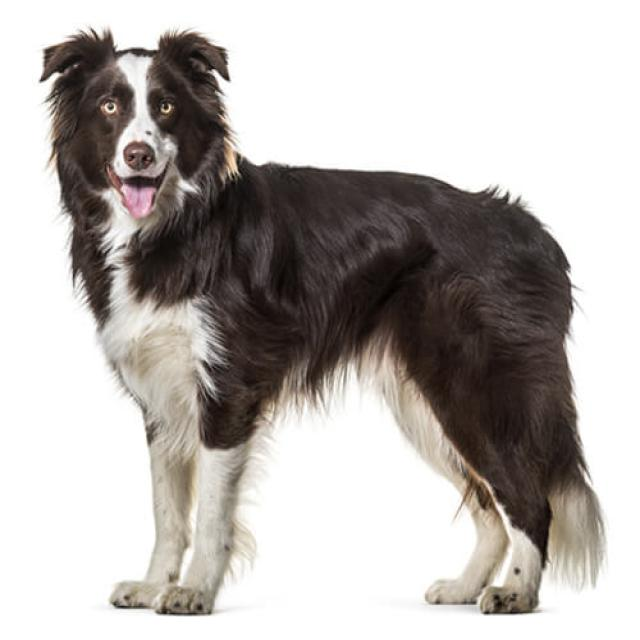ALASKAN_MALAMUTE: (20, 11, 616, 624)
